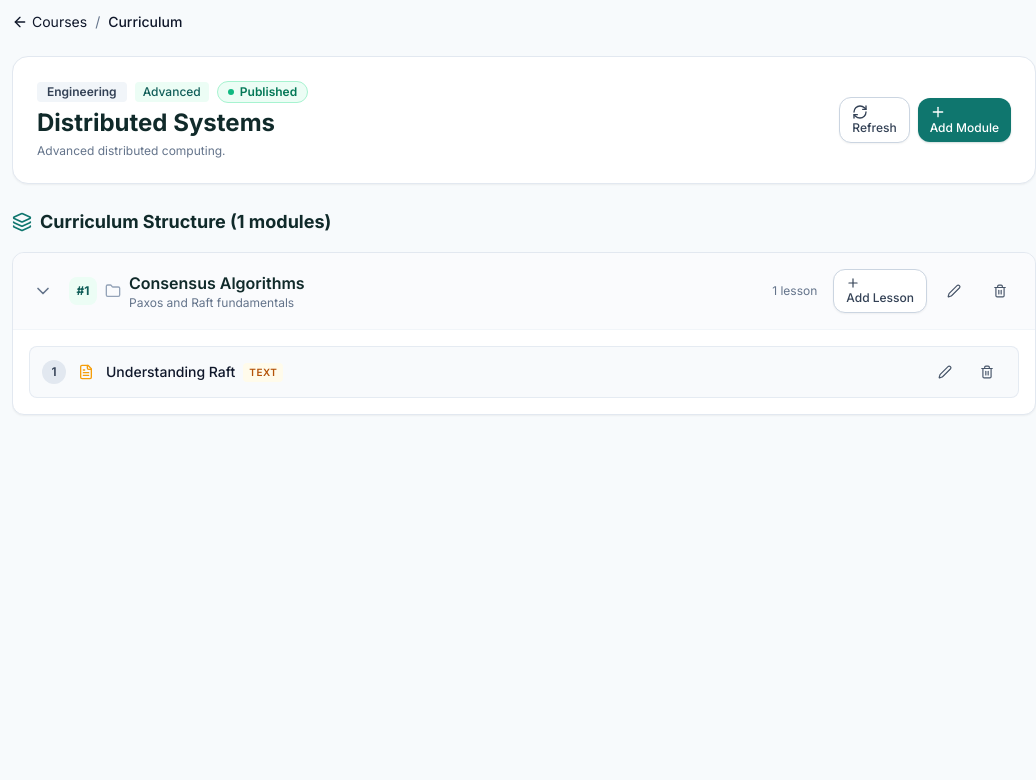
Test: TrainerCurriculumPage › handles deleting a module with confirmation
Expected: the heading "Consensus Algorithms" is shown, [129,271,305,295]
Click the button named "Delete module Consensus Algorithms".
click(1000, 291)  # box [981,278,1019,304]
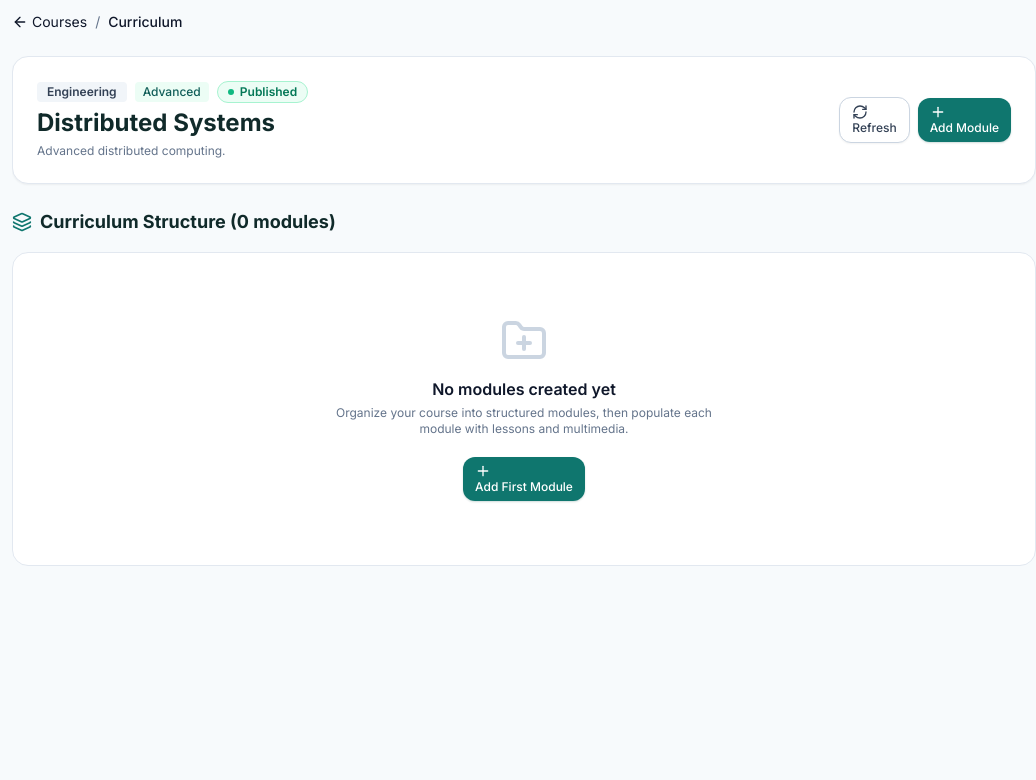
Expected: the heading "Consensus Algorithms" is gone
